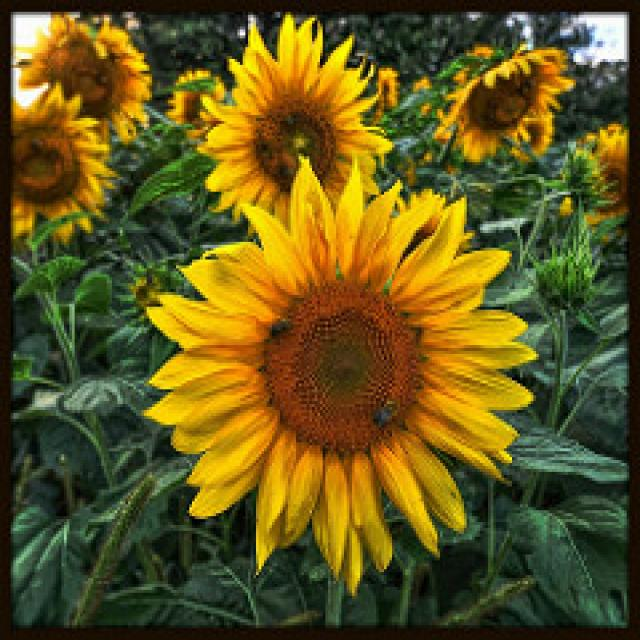sunflower: (139, 188, 546, 580), (189, 17, 391, 232), (429, 44, 577, 164), (16, 19, 159, 138), (11, 97, 116, 237)
